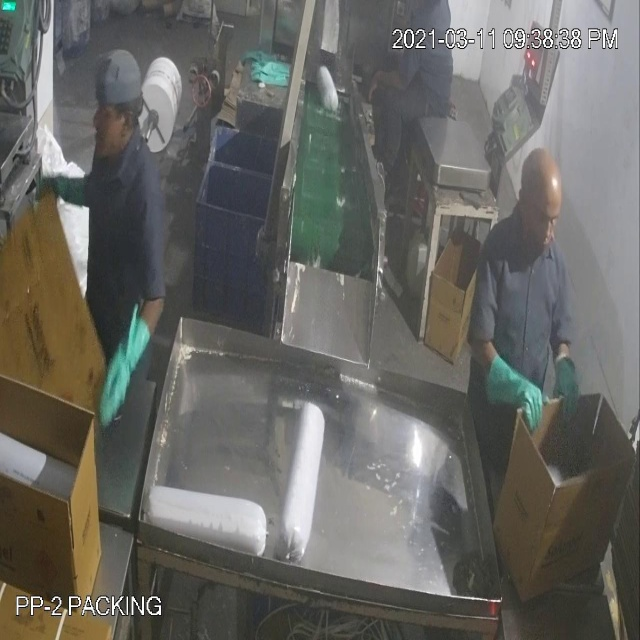Guantes: (485, 343, 546, 435), (545, 343, 590, 429)
Sin_guantes: (359, 53, 402, 103)
